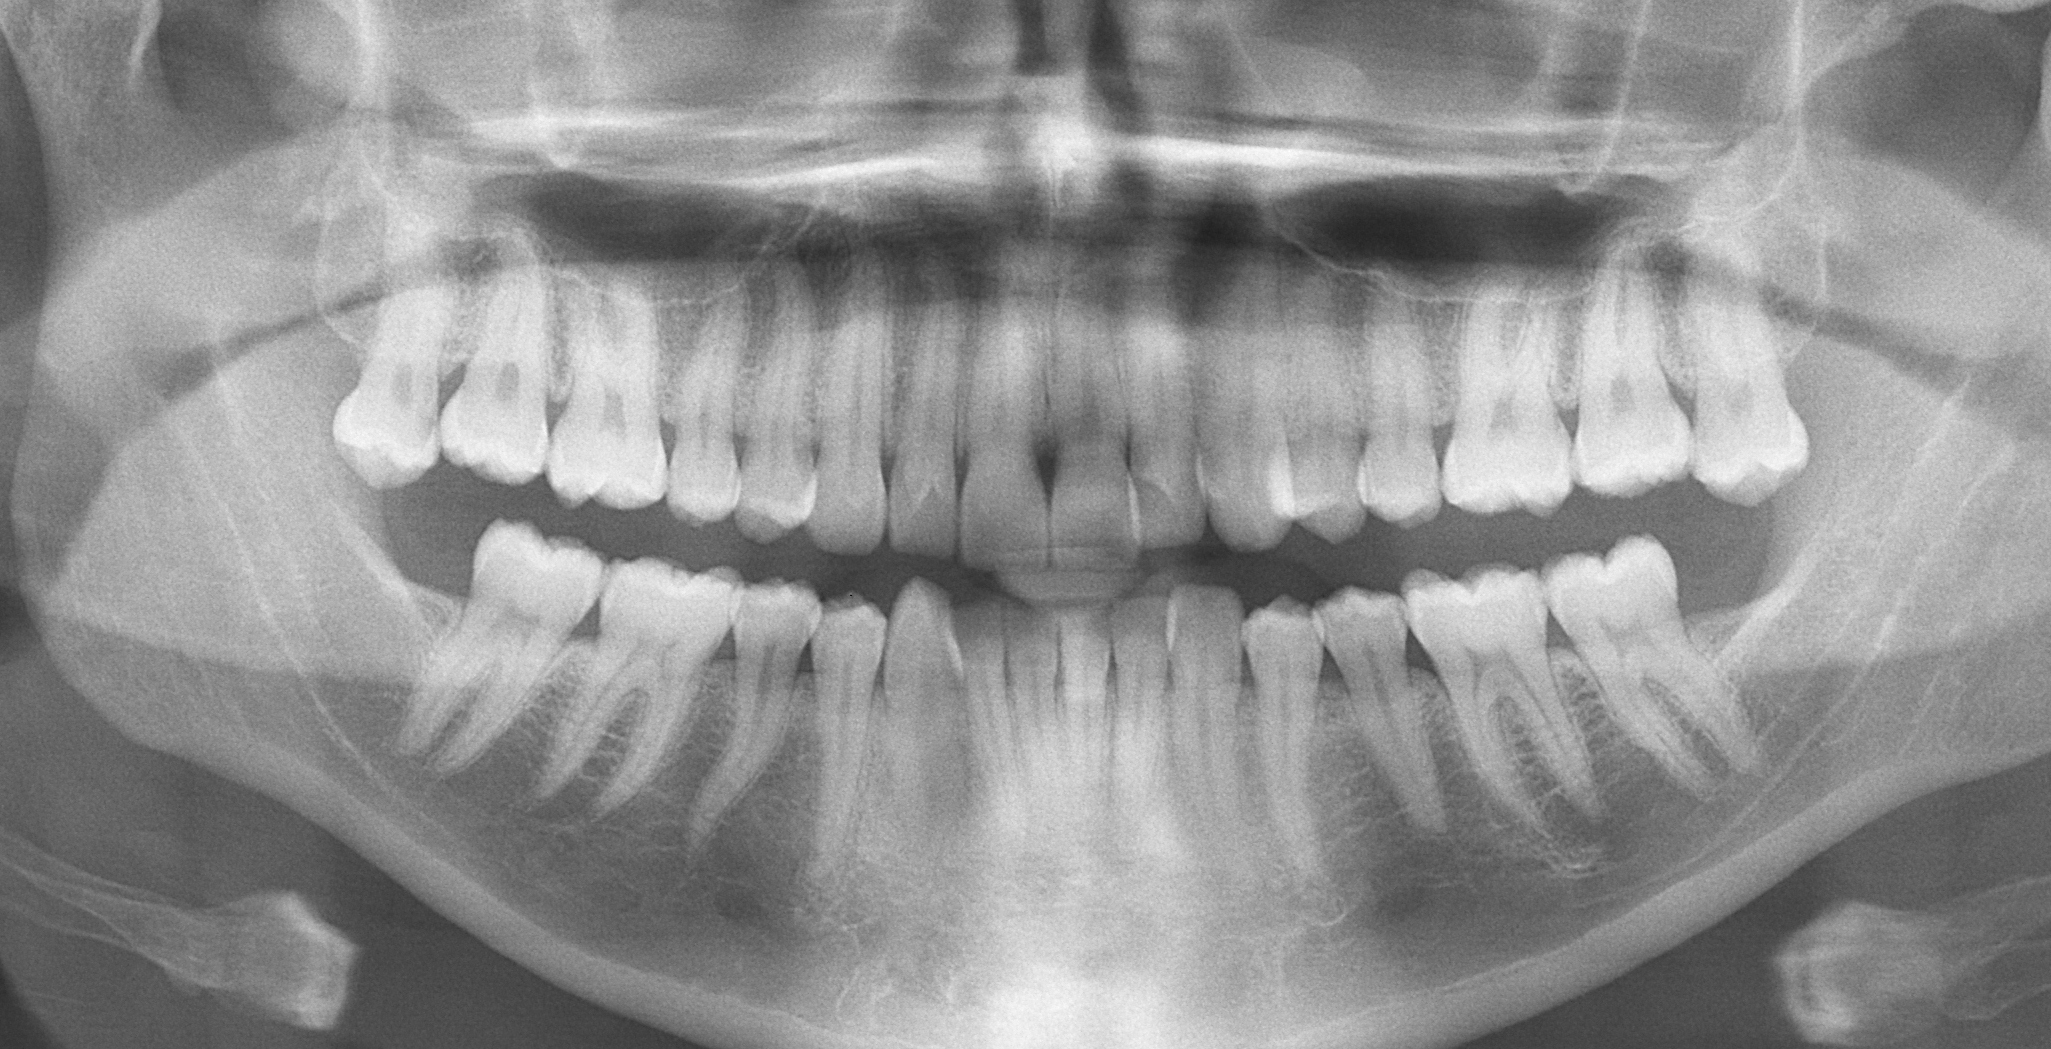canine: (1195, 270, 1295, 561), (803, 265, 898, 557), (880, 570, 983, 835), (1155, 563, 1262, 816)
incisor: (1038, 304, 1155, 585), (961, 272, 1060, 585), (1116, 293, 1216, 563), (894, 286, 973, 569), (947, 574, 1017, 878), (995, 585, 1070, 842), (1060, 579, 1122, 830), (1120, 583, 1181, 811)
molar: (543, 466, 764, 850), (1529, 504, 1773, 808), (396, 467, 615, 776), (1398, 531, 1603, 846), (1651, 194, 1829, 537), (302, 211, 486, 491), (1555, 217, 1703, 512), (536, 245, 684, 527), (1444, 253, 1592, 526), (443, 238, 559, 484)
premolar: (1307, 557, 1448, 835), (1262, 226, 1375, 565), (1236, 579, 1346, 883), (724, 549, 827, 860), (813, 571, 900, 868), (747, 254, 834, 543), (1357, 278, 1452, 534), (664, 260, 751, 535)
